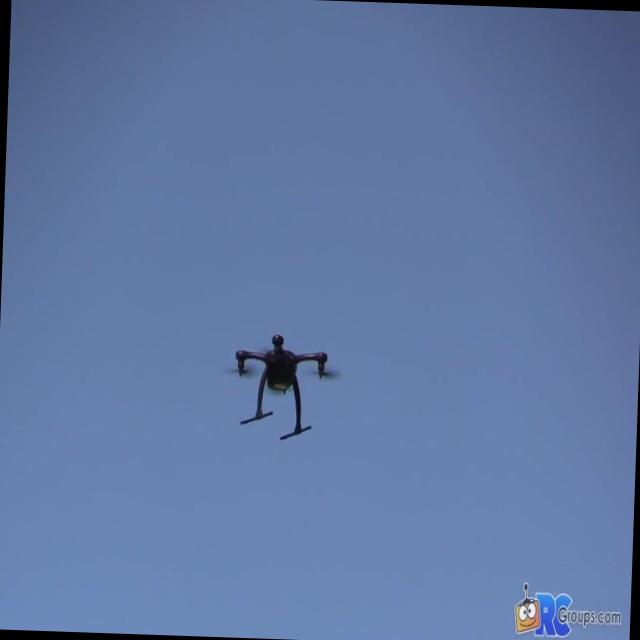drone: (232, 328, 328, 444)
